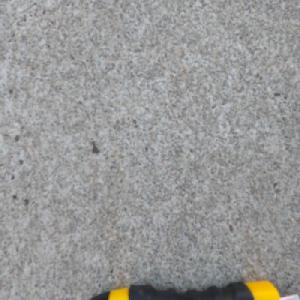Cutter: (89, 278, 300, 300)
